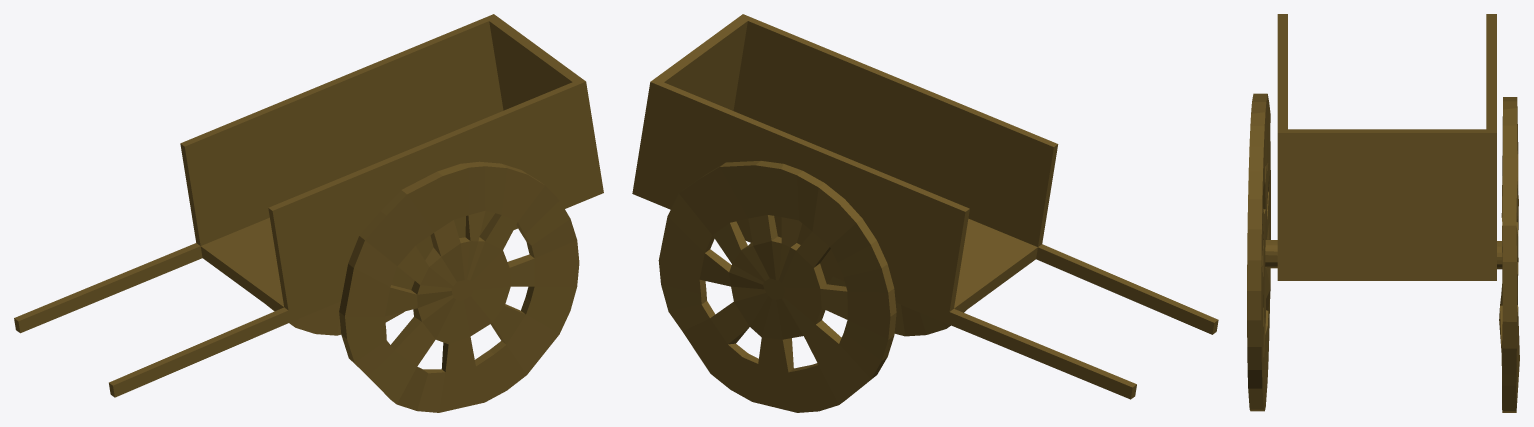
Rendered from kar.fbx.
3 views of the same model, side by side, from view 1: azimuth 30°, elevation 25°; view 2: azimuth 150°, elevation 25°; view 3: azimuth 270°, elevation 25° (orthographic). The views are drawn at different scales.
Visible parts, largest first — view 1: Cube; view 2: Cube; view 3: Cube.
Boxes of the visible parts, x1,y1,x2,y2 form: Cube: (14,14,603,412); Cube: (632,14,1218,412); Cube: (1247,14,1519,412).
Size of the model in its own units: 215 by 118 by 86.05.
